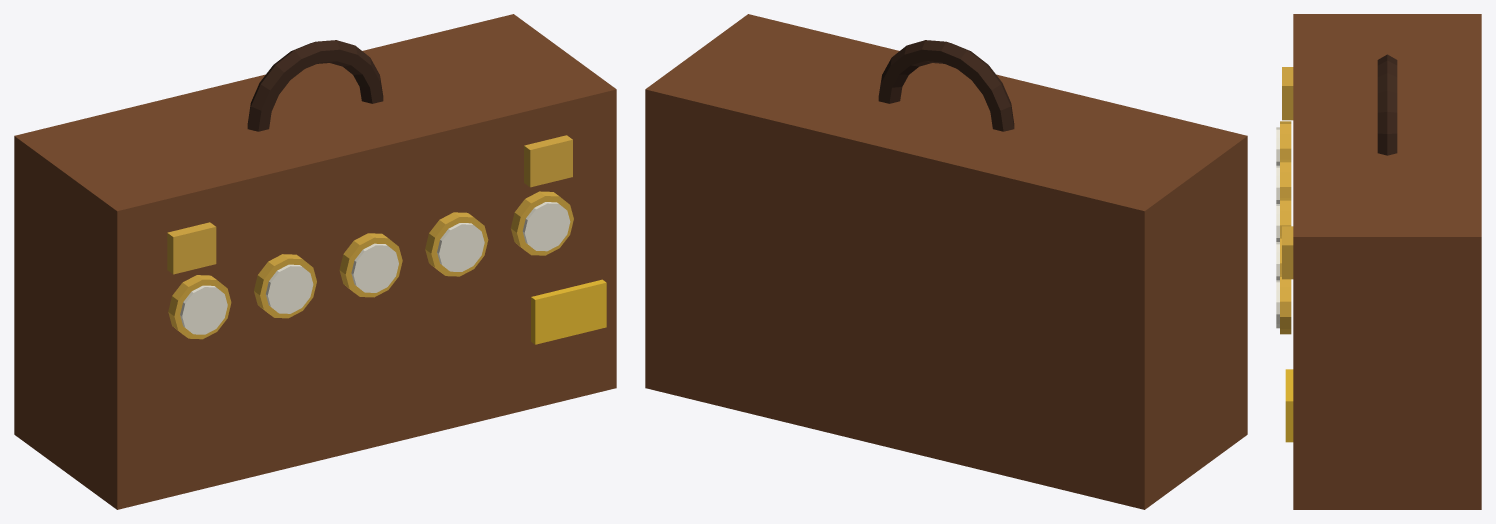
File: watch_suitcase.glb
3 views of the same model, side by side, from view 1: azimuth 30°, elevation 25°; view 2: azimuth 150°, elevation 25°; view 3: azimuth 270°, elevation 25° (orthographic). The views are drawn at different scales.
Visible parts, largest first — view 1: body_watch_case_leather, face_watch_face (×5), watch_pawn_brass (×5), handle_watch_case_handle, clasp_pawn_brass (×2), tag_watch_case_tag; view 2: body_watch_case_leather, handle_watch_case_handle; view 3: body_watch_case_leather, handle_watch_case_handle, watch_pawn_brass (×4), clasp_pawn_brass (×2), tag_watch_case_tag.
Part boxes in pixels (x1,y1,x2,y2): body_watch_case_leather: [14, 14, 616, 509]; face_watch_face (×5): [180, 202, 570, 334]; watch_pawn_brass (×5): [168, 191, 573, 339]; handle_watch_case_handle: [247, 40, 383, 131]; clasp_pawn_brass (×2): [167, 135, 572, 274]; tag_watch_case_tag: [531, 279, 606, 344]; body_watch_case_leather: [645, 14, 1247, 509]; handle_watch_case_handle: [878, 40, 1014, 131]; body_watch_case_leather: [1293, 14, 1481, 509]; handle_watch_case_handle: [1377, 54, 1397, 155]; watch_pawn_brass (×4): [1280, 121, 1291, 334]; clasp_pawn_brass (×2): [1282, 67, 1293, 279]; tag_watch_case_tag: [1285, 369, 1293, 442].
Bounding box in the file's own units: 0.7 × 0.495 × 0.2725.
